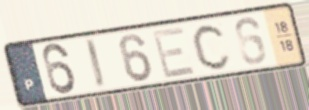6: (41, 42, 78, 97), (117, 32, 153, 84), (233, 16, 269, 67)
C: (190, 22, 234, 72)
E: (150, 24, 199, 81)
I: (82, 35, 109, 92)
